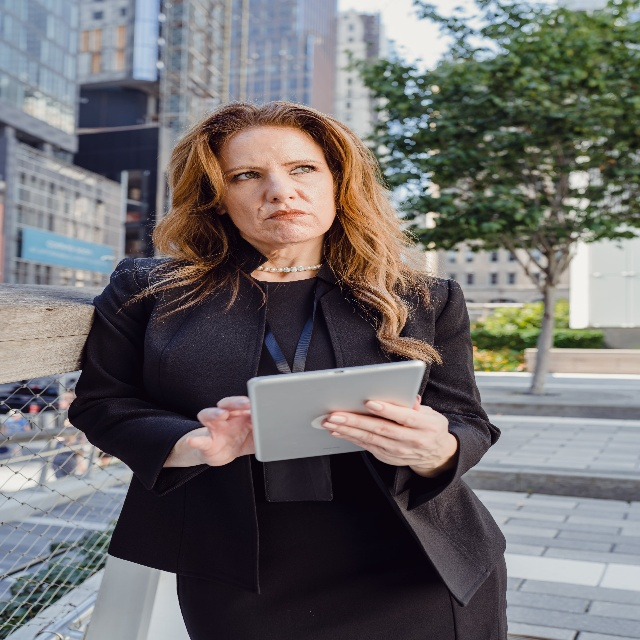Sin_guantes: (321, 394, 449, 466), (186, 395, 256, 467)
